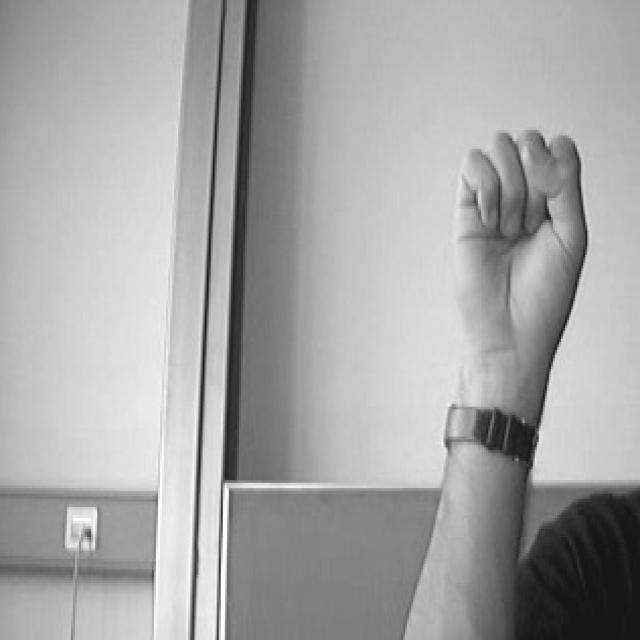S: (448, 119, 598, 363)
